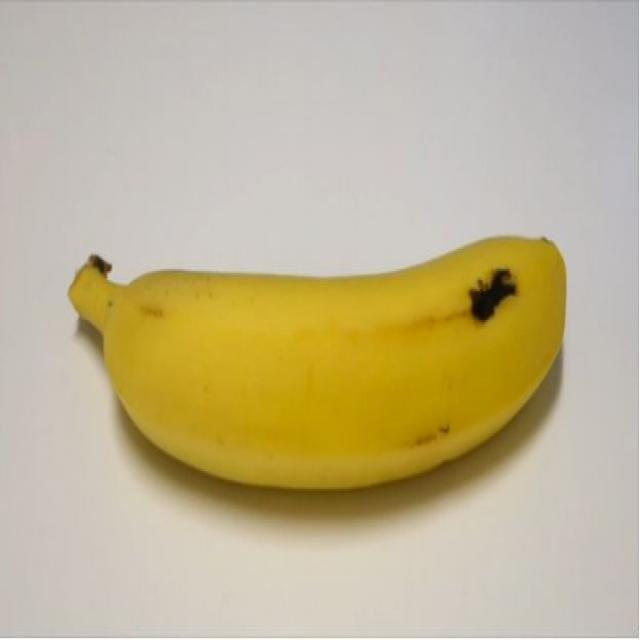Banana: (68, 234, 570, 493)
